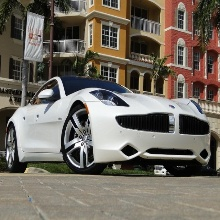no damage: (3, 74, 212, 176)
